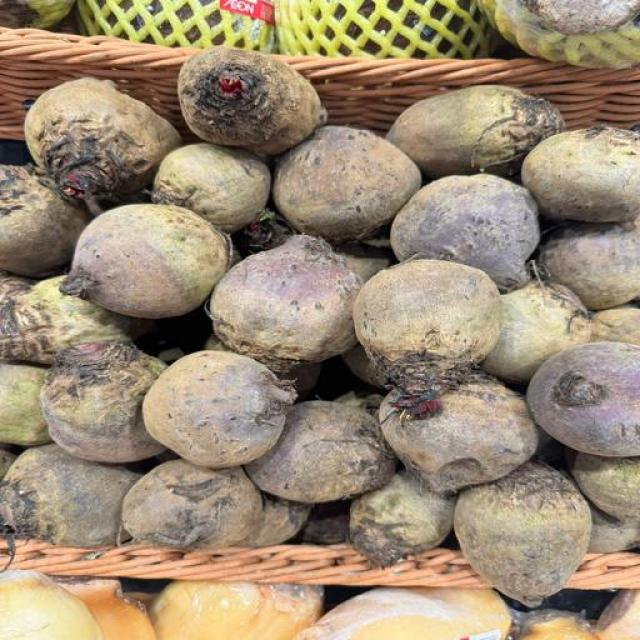organic: (0, 1, 640, 640), (0, 363, 49, 446), (220, 0, 274, 24)
